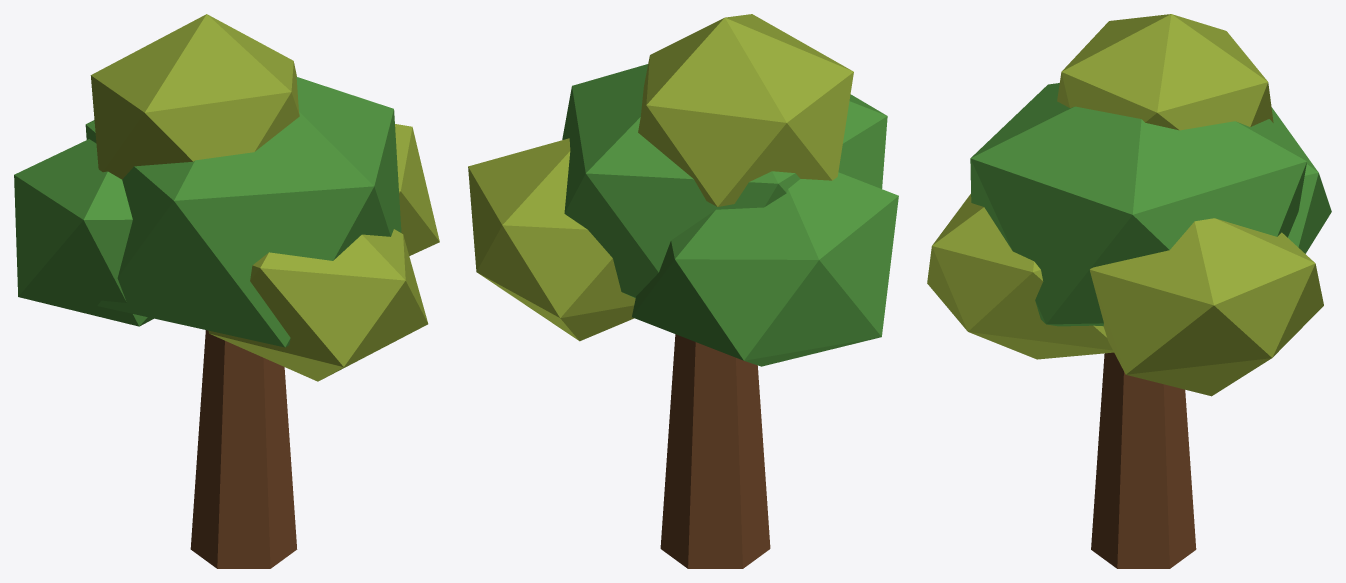
Rendered from tree_oak.glb.
3 renders of one model, left to right at view 1: azimuth 30°, elevation 25°; view 2: azimuth 150°, elevation 25°; view 3: azimuth 270°, elevation 25°, orthographic. The views are drawn at different scales.
Visible parts, largest first — view 1: crown_0, crown_4, trunk, crown_3, crown_2, crown_1; view 2: crown_2, crown_4, crown_0, trunk, crown_1; view 3: crown_0, crown_1, crown_4, trunk, crown_3, crown_2.
Boxes of the visible parts, left/top/right/bottom form: crown_0: left=85, top=77, right=401, bottom=347; crown_4: left=90, top=14, right=299, bottom=179; trunk: left=190, top=330, right=297, bottom=568; crown_3: left=208, top=229, right=428, bottom=381; crown_2: left=14, top=139, right=153, bottom=326; crown_1: left=395, top=124, right=439, bottom=255; crown_2: left=632, top=172, right=898, bottom=366; crown_4: left=638, top=14, right=853, bottom=206; crown_0: left=562, top=64, right=887, bottom=298; trunk: left=660, top=334, right=770, bottom=568; crown_1: left=468, top=138, right=635, bottom=341; crown_0: left=970, top=83, right=1306, bottom=326; crown_1: left=1090, top=218, right=1323, bottom=396; crown_4: left=1057, top=14, right=1273, bottom=130; trunk: left=1091, top=352, right=1196, bottom=568; crown_3: left=927, top=194, right=1113, bottom=359; crown_2: left=1271, top=107, right=1331, bottom=253.
Bounding box in the file's own units: 1.38 × 1.76 × 1.23.
